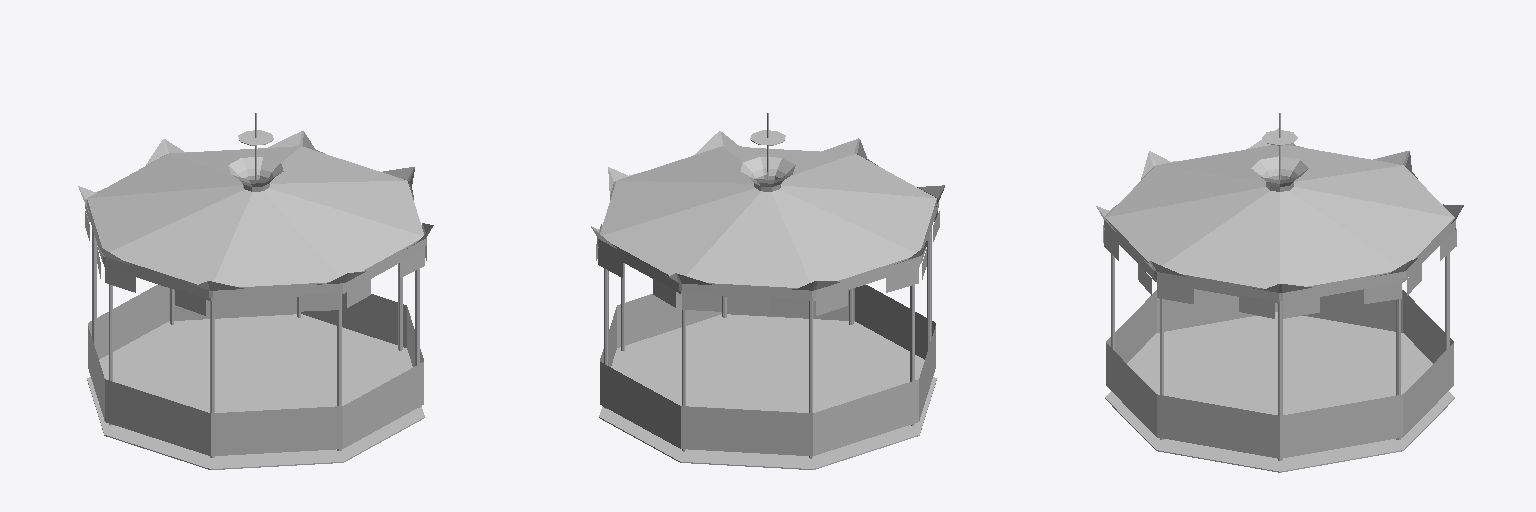
File: bandstand-monday26.obj
The picture shows the model from 3 angles: view 1: azimuth 30°, elevation 25°; view 2: azimuth 150°, elevation 25°; view 3: azimuth 270°, elevation 25°; orthographic projection.
Visible parts, largest first — view 1: Cylinder.010_Cylinder.012, railings_Cylinder.022, Cylinder.024, Cylinder.019_Cylinder.021, brackets.001_Plane.005, brackets_Plane.001, crown_Circle.001, Cylinder.014_Cylinder.016, Cylinder.017_Cylinder.019, Cylinder.023, Cylinder.004_Cylinder.006, Cylinder.008_Cylinder.010; view 2: Cylinder.010_Cylinder.012, railings_Cylinder.022, Cylinder.024, Cylinder.019_Cylinder.021, brackets.001_Plane.005, brackets_Plane.001, crown_Circle.001, Cylinder.013_Cylinder.015, Cylinder.012_Cylinder.014, Cylinder.023, Cylinder.008_Cylinder.010; view 3: Cylinder.010_Cylinder.012, railings_Cylinder.022, Cylinder.024, Cylinder.019_Cylinder.021, brackets_Plane.001, brackets.001_Plane.005, crown_Circle.001, Cylinder.011_Cylinder.013, Cylinder.023, Cylinder.007_Cylinder.009, Cylinder.016_Cylinder.018.
Part boxes in pixels (bbox=[...]): Cylinder.010_Cylinder.012: bbox=[87, 146, 423, 298]; railings_Cylinder.022: bbox=[88, 285, 423, 455]; Cylinder.024: bbox=[99, 314, 412, 412]; Cylinder.019_Cylinder.021: bbox=[87, 377, 424, 469]; brackets.001_Plane.005: bbox=[85, 211, 426, 316]; brackets_Plane.001: bbox=[97, 247, 370, 311]; crown_Circle.001: bbox=[228, 157, 283, 191]; Cylinder.014_Cylinder.016: bbox=[183, 281, 245, 298]; Cylinder.017_Cylinder.019: bbox=[310, 271, 366, 292]; Cylinder.023: bbox=[90, 220, 424, 300]; Cylinder.004_Cylinder.006: bbox=[92, 229, 96, 351]; Cylinder.008_Cylinder.010: bbox=[210, 301, 214, 457]; Cylinder.010_Cylinder.012: bbox=[600, 146, 936, 298]; railings_Cylinder.022: bbox=[600, 285, 935, 455]; Cylinder.024: bbox=[611, 314, 924, 412]; Cylinder.019_Cylinder.021: bbox=[599, 377, 936, 469]; brackets.001_Plane.005: bbox=[596, 211, 939, 316]; brackets_Plane.001: bbox=[653, 249, 926, 311]; crown_Circle.001: bbox=[740, 157, 795, 191]; Cylinder.013_Cylinder.015: bbox=[779, 281, 842, 297]; Cylinder.012_Cylinder.014: bbox=[658, 272, 714, 292]; Cylinder.023: bbox=[599, 220, 933, 300]; Cylinder.008_Cylinder.010: bbox=[927, 229, 931, 351]; Cylinder.010_Cylinder.012: bbox=[1105, 145, 1454, 300]; railings_Cylinder.022: bbox=[1106, 289, 1453, 458]; Cylinder.024: bbox=[1127, 312, 1432, 414]; Cylinder.019_Cylinder.021: bbox=[1105, 391, 1454, 472]; brackets_Plane.001: bbox=[1103, 225, 1456, 318]; brackets.001_Plane.005: bbox=[1138, 263, 1421, 303]; crown_Circle.001: bbox=[1251, 156, 1308, 191]; Cylinder.011_Cylinder.013: bbox=[1248, 284, 1312, 300]; Cylinder.023: bbox=[1105, 229, 1454, 303]; Cylinder.007_Cylinder.009: bbox=[1278, 304, 1282, 460]; Cylinder.016_Cylinder.018: bbox=[1142, 259, 1187, 284].
Size of the model in its own units: 19.86 by 17.03 by 19.86.